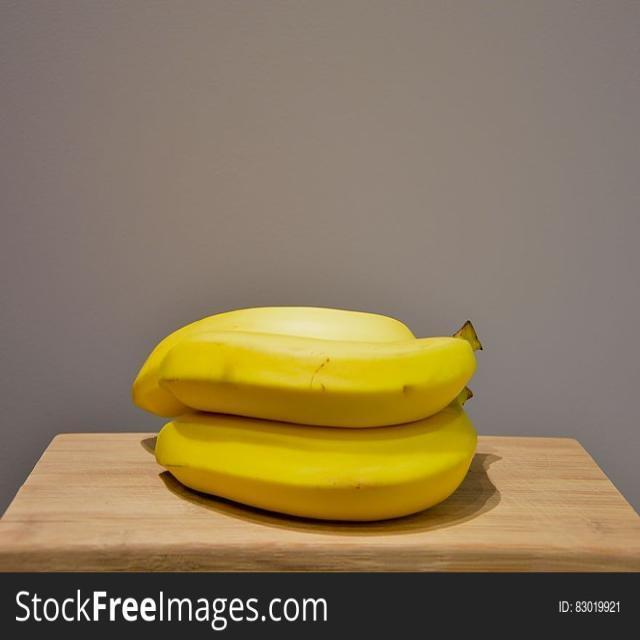Banana: (148, 378, 488, 526), (122, 291, 444, 434), (153, 318, 491, 438)
